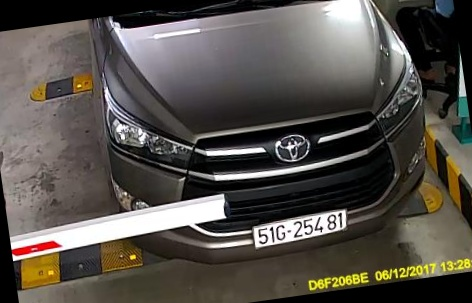plate: (241, 209, 351, 257)
